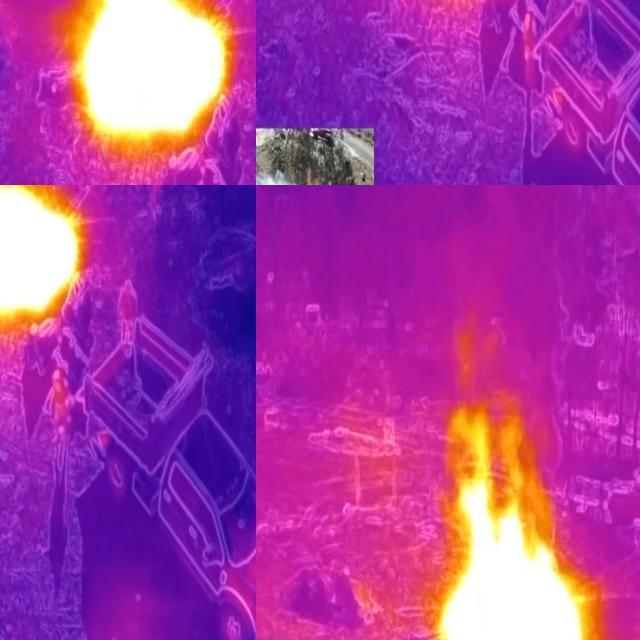fire: (68, 1, 232, 156), (438, 477, 584, 640), (1, 186, 84, 325)
